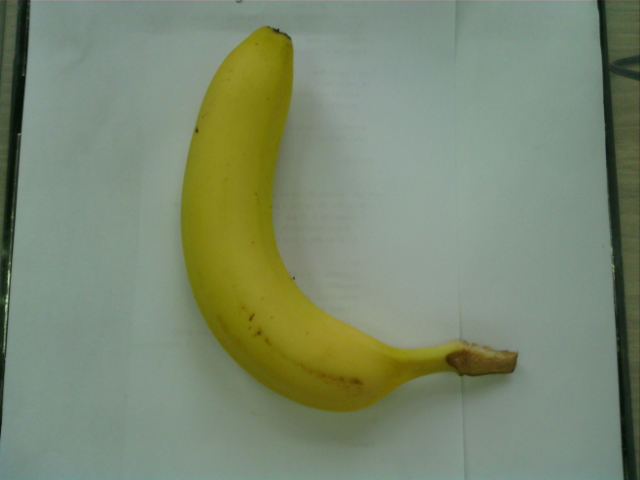normal_banana: (179, 28, 486, 412)
